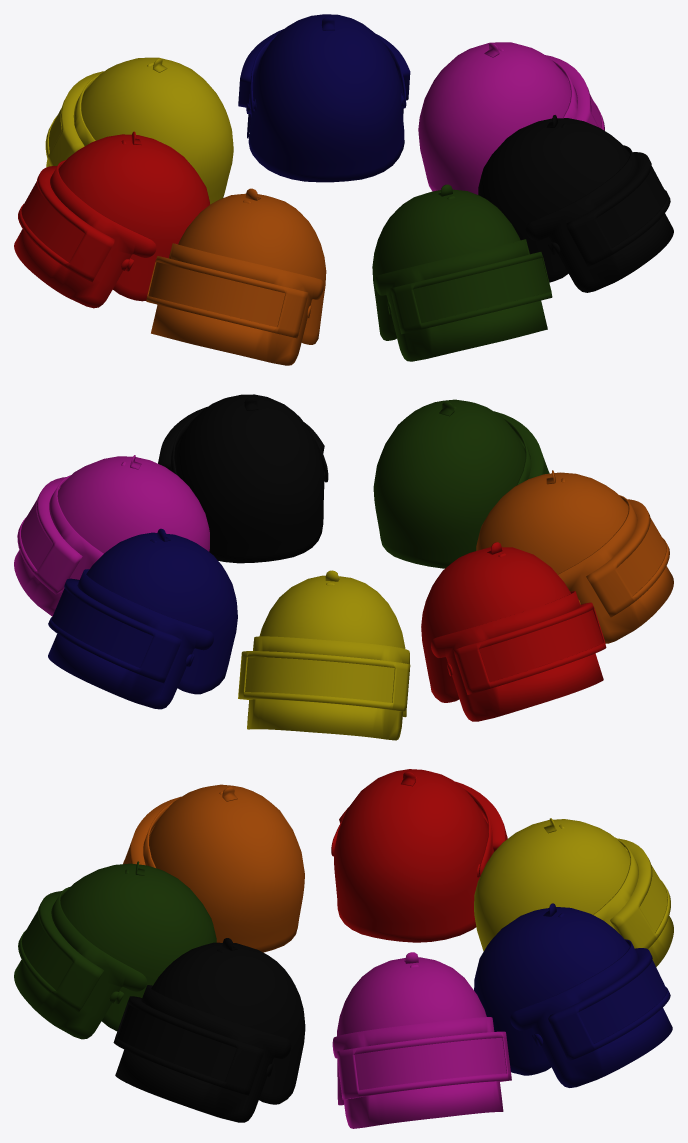
File: Helmets.fbx
3 views of the same model, one above another, from view 1: azimuth 30°, elevation 25°; view 2: azimuth 150°, elevation 25°; view 3: azimuth 270°, elevation 25° (orthographic). The views are drawn at different scales.
Parts seen in each view (by area): view 1: Helmet_Base_low003, Defend_P1_low006, Defend_P1_low, Helmet_Base_low002, Helmet_Base_low005, Helmet_Base_low004, Helmet_Base_low001, Defend_P1_low001, Defend_P1_low005, Helmet_Base_low, Helmet_Base_low006, Defend_P1_low004 (+2 smaller); view 2: Helmet_Base_low001, Helmet_Base_low, Defend_P1_low004, Defend_P1_low005, Defend_P1_low003, Helmet_Base_low003, Helmet_Base_low002, Helmet_Base_low006, Helmet_Base_low005, Defend_P1_low006, Helmet_Base_low004, Defend_P1_low002 (+2 smaller); view 3: Helmet_Base_low005, Helmet_Base_low006, Defend_P1_low002, Defend_P1_low001, Defend_P1_low003, Helmet_Base_low003, Helmet_Base_low, Helmet_Base_low004, Helmet_Base_low001, Defend_P1_low, Helmet_Base_low002, Defend_P1_low004 (+2 smaller).
Boxes of the visible parts, left/top/right/bottom form: Helmet_Base_low003: left=248, top=14, right=404, bottom=182; Defend_P1_low006: left=146, top=243, right=323, bottom=365; Defend_P1_low: left=375, top=239, right=552, bottom=361; Helmet_Base_low002: left=418, top=42, right=570, bottom=194; Helmet_Base_low005: left=58, top=134, right=210, bottom=301; Helmet_Base_low004: left=81, top=57, right=233, bottom=204; Helmet_Base_low001: left=478, top=118, right=629, bottom=282; Defend_P1_low001: left=525, top=145, right=673, bottom=292; Defend_P1_low005: left=14, top=160, right=156, bottom=308; Helmet_Base_low: left=372, top=189, right=520, bottom=340; Helmet_Base_low006: left=178, top=193, right=326, bottom=344; Defend_P1_low004: left=45, top=71, right=103, bottom=167; Helmet_Base_low001: left=174, top=394, right=324, bottom=563; Helmet_Base_low: left=373, top=399, right=525, bottom=568; Defend_P1_low004: left=238, top=636, right=410, bottom=740; Defend_P1_low005: left=431, top=591, right=606, bottom=721; Defend_P1_low003: left=48, top=569, right=213, bottom=709; Helmet_Base_low003: left=86, top=532, right=237, bottom=694; Helmet_Base_low002: left=57, top=456, right=209, bottom=553; Helmet_Base_low006: left=476, top=472, right=628, bottom=574; Helmet_Base_low005: left=421, top=547, right=570, bottom=702; Defend_P1_low006: left=558, top=495, right=673, bottom=643; Helmet_Base_low004: left=259, top=575, right=406, bottom=717; Defend_P1_low002: left=14, top=475, right=103, bottom=616; Helmet_Base_low005: left=333, top=769, right=488, bottom=942; Helmet_Base_low006: left=149, top=784, right=304, bottom=952; Defend_P1_low002: left=332, top=1017, right=511, bottom=1128; Defend_P1_low001: left=113, top=985, right=291, bottom=1122; Defend_P1_low003: left=510, top=939, right=672, bottom=1087; Helmet_Base_low003: left=474, top=907, right=629, bottom=1075; Helmet_Base_low: left=60, top=863, right=216, bottom=1031; Helmet_Base_low004: left=474, top=819, right=630, bottom=951; Helmet_Base_low001: left=151, top=942, right=305, bottom=1104; Defend_P1_low: left=14, top=886, right=147, bottom=1039; Helmet_Base_low002: left=337, top=957, right=486, bottom=1105; Defend_P1_low004: left=593, top=837, right=673, bottom=967.
Size of the model in its own units: 99.34 by 23.52 by 97.51.
